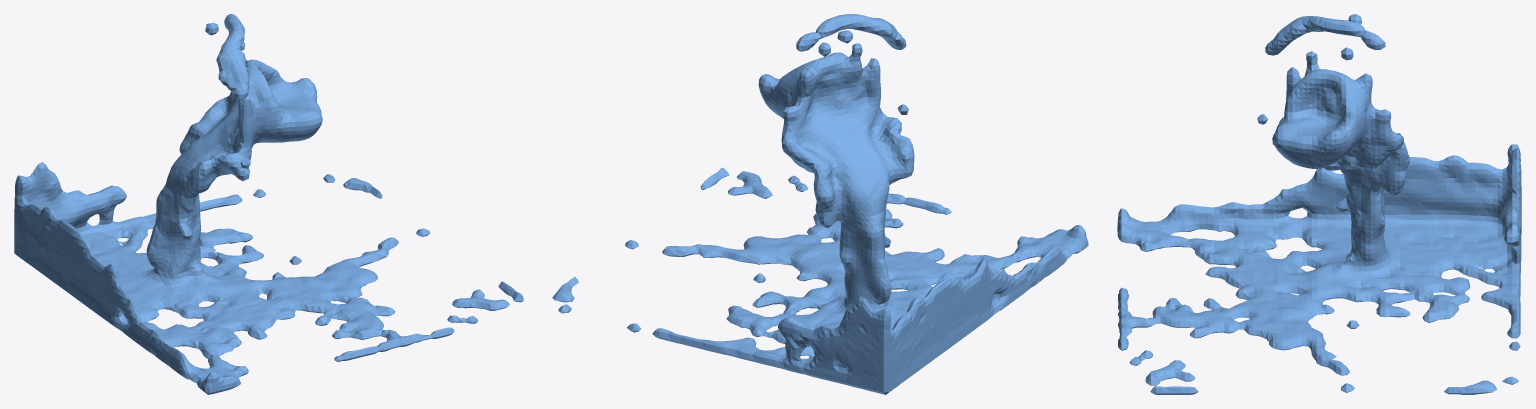
The model's file is water_0049.glb.
3 renders of one model, left to right at view 1: azimuth 30°, elevation 25°; view 2: azimuth 150°, elevation 25°; view 3: azimuth 270°, elevation 25°, orthographic. The views are drawn at different scales.
Parts seen in each view (by area): view 1: Water_0049; view 2: Water_0049; view 3: Water_0049.
Boxes of the visible parts, <box> form: Water_0049: <box>14,14,523,394</box>; Water_0049: <box>552,14,1088,394</box>; Water_0049: <box>1117,14,1521,394</box>.
Bounding box in the file's own units: 4.82 × 3.64 × 4.83.
